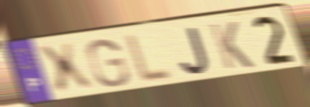2: (253, 14, 297, 66)
G: (86, 37, 131, 89)
J: (178, 25, 212, 76)
K: (207, 20, 256, 71)
L: (124, 31, 176, 85)
X: (35, 40, 97, 97)
